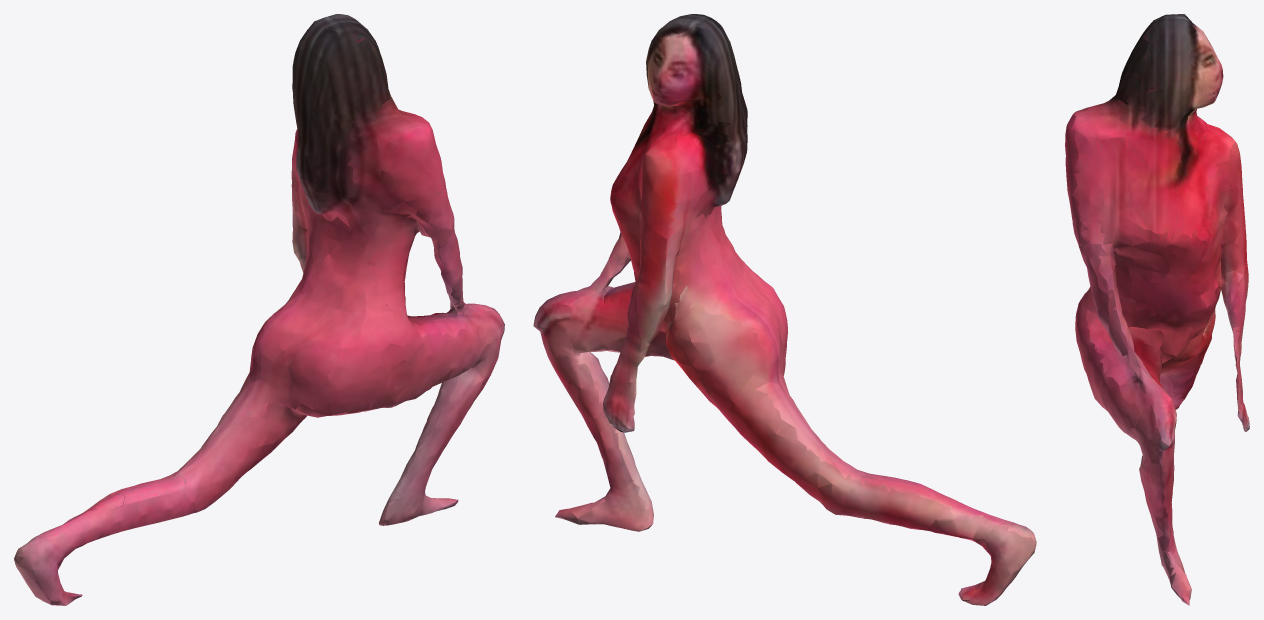
The picture shows the model from 3 angles, left to right: view 1: azimuth 30°, elevation 25°; view 2: azimuth 150°, elevation 25°; view 3: azimuth 270°, elevation 25°; orthographic projection.
Parts seen in each view (by area): view 1: world; view 2: world; view 3: world.
Part boxes in pixels (x1,y1,x2,y2): world: (14, 14, 504, 605); world: (533, 14, 1036, 605); world: (1065, 14, 1249, 605).
Size of the model in its own units: 0.8581 by 0.8673 by 0.277.
Materials: 1 (1 with a texture image).
